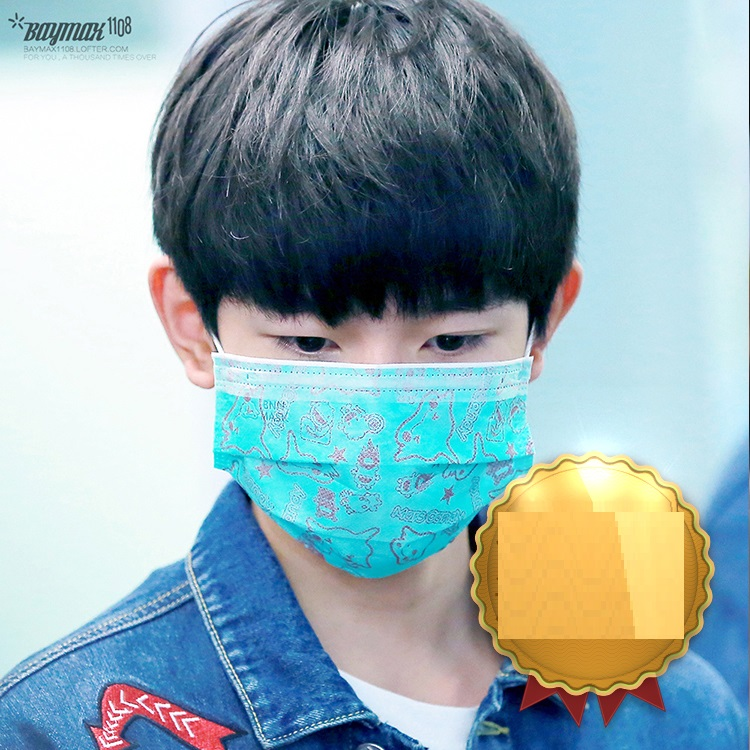face_mask: (221, 193, 522, 557)
